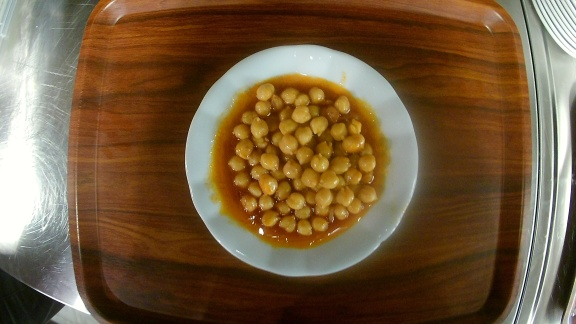sulunohut: (185, 44, 421, 280)
